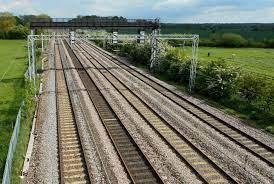track: (79, 40, 274, 166), (70, 40, 235, 183), (60, 35, 164, 183), (55, 42, 87, 184)
